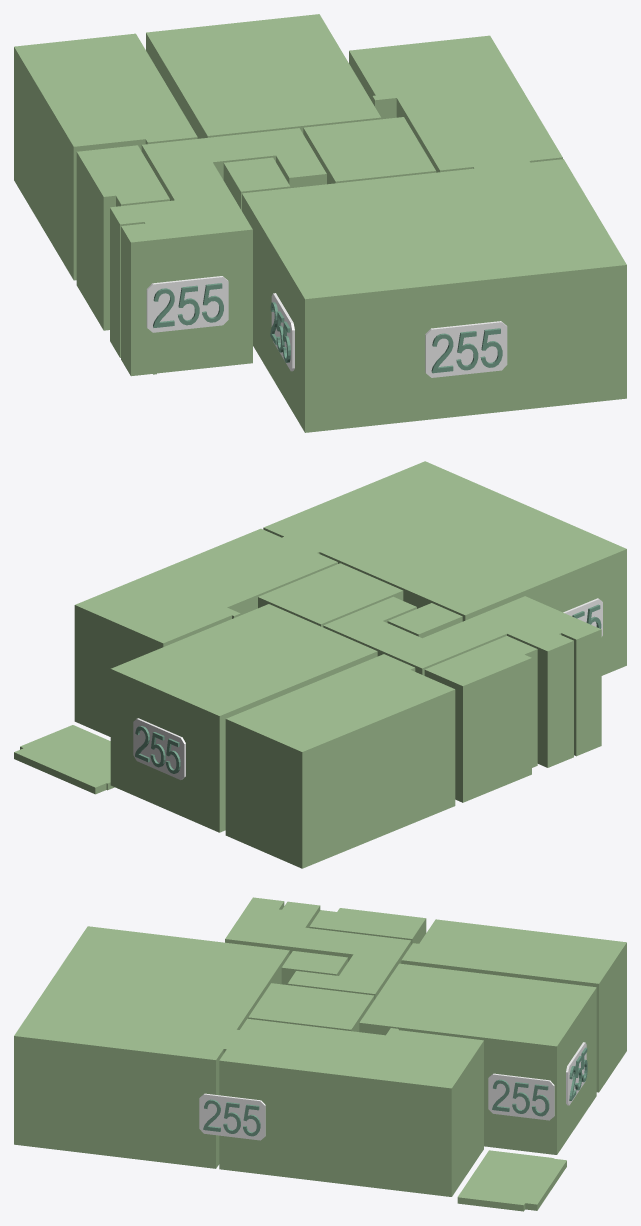
The picture shows the model from 3 angles, top to bottom: view 1: azimuth 30°, elevation 25°; view 2: azimuth 150°, elevation 25°; view 3: azimuth 270°, elevation 25°; orthographic projection. The views are drawn at different scales.
Visible parts, largest first — view 1: g_1, g_7, g_4, g_3, g_0, g_5, g_2, g_16, g_20, g_6, g_24; view 2: g_4, g_1, g_3, g_0, g_7, g_5, g_2, g_8, g_12, g_6; view 3: g_1, g_0, g_3, g_4, g_7, g_8, g_2, g_5, g_28, g_32, g_6, g_12.
Part boxes in pixels (box(x1,y1,x2,y2)): g_1: box(242, 159, 626, 432); g_7: box(110, 128, 326, 376); g_4: box(14, 33, 197, 280); g_3: box(146, 14, 381, 138); g_0: box(349, 35, 562, 172); g_5: box(76, 145, 169, 330); g_2: box(303, 117, 436, 184); g_16: box(425, 321, 507, 377); g_20: box(146, 276, 228, 332); g_6: box(223, 157, 290, 210); g_24: box(271, 293, 294, 371); g_4: box(225, 654, 455, 868); g_1: box(263, 461, 626, 675); g_3: box(110, 604, 377, 832); g_0: box(74, 528, 337, 736); g_7: box(323, 596, 601, 767); g_5: box(424, 636, 537, 802); g_2: box(258, 563, 403, 627); g_8: box(14, 725, 114, 794); g_12: box(133, 718, 185, 779); g_6: box(387, 603, 462, 638); g_1: box(14, 926, 289, 1168); g_0: box(219, 1018, 483, 1196); g_3: box(359, 963, 596, 1154); g_4: box(401, 919, 626, 1092); g_7: box(225, 897, 411, 999); g_8: box(457, 1150, 566, 1211); g_2: box(248, 983, 374, 1031); g_5: box(309, 908, 426, 944); g_28: box(488, 1073, 554, 1120); g_32: box(199, 1093, 265, 1140); g_6: box(281, 951, 347, 984); g_12: box(566, 1042, 586, 1105).
Bounding box in the file's own units: 10.08 × 2.74 × 13.16.
